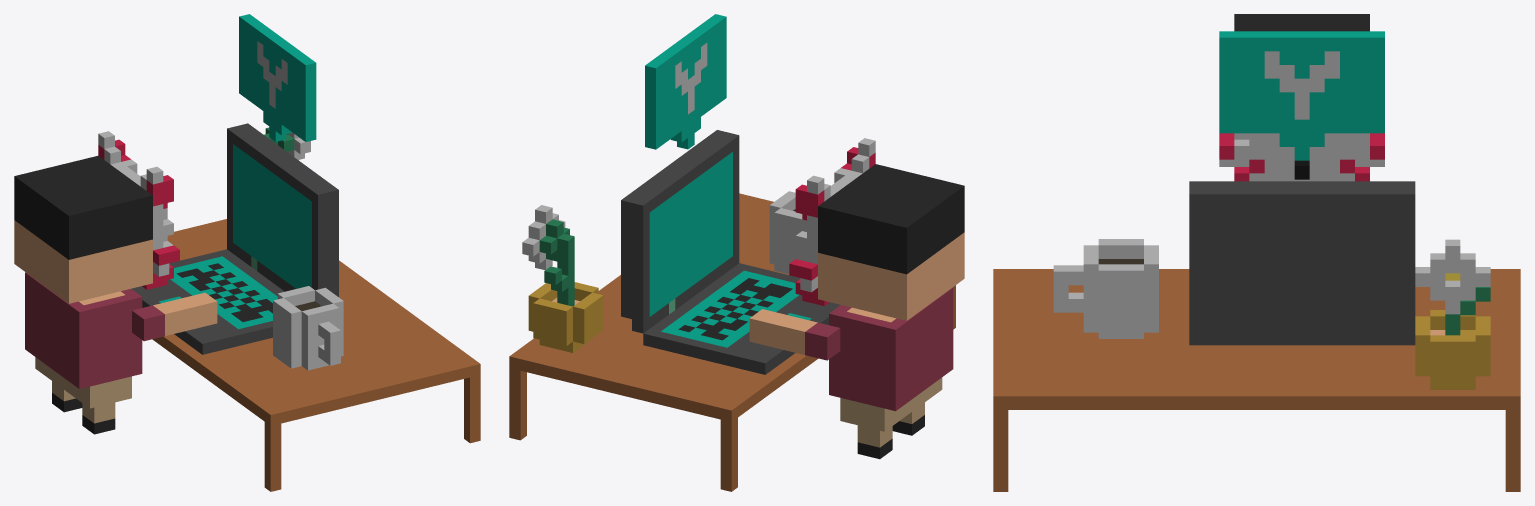
3 renders of one model, left to right at view 1: azimuth 30°, elevation 25°; view 2: azimuth 150°, elevation 25°; view 3: azimuth 270°, elevation 25°, orthographic. The views are drawn at different scales.
Parts seen in each view (by area): view 1: Mesh; view 2: Mesh; view 3: Mesh.
Boxes of the visible parts, x1,y1,x2,y2 form: Mesh: (14,14,480,491); Mesh: (509,14,964,491); Mesh: (993,14,1520,491).
Bounding box in the file's own units: 3 × 3 × 3.5.
1 material, 1 textured.
